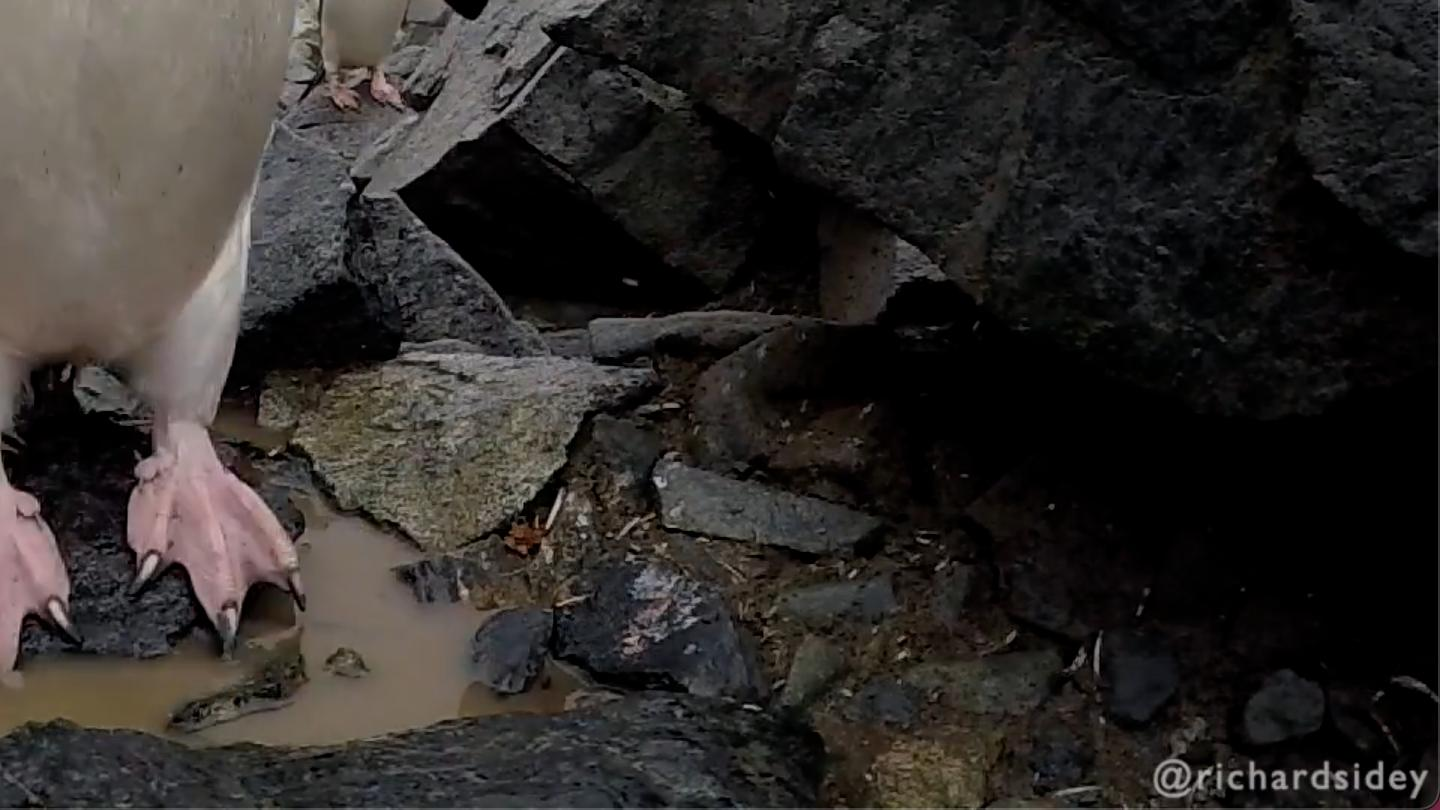Chinstrap Penguin: (0, 0, 489, 691)
